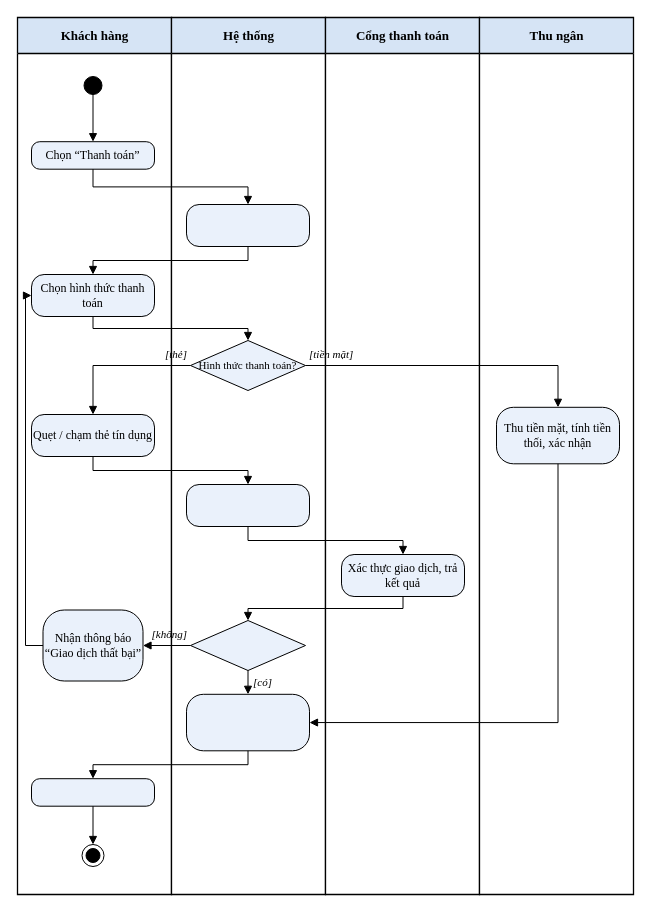
Some shapes in this 652 by 913 pixel diagram are drawn without their labels. Here are the shapes that lost their labels. From the top down, the centre of each, then its label:
At point (248, 225): "Hiển thị hóa đơn và tổng tiền".
At point (248, 505): "Gửi yêu cầu xác thực thẻ".
At point (248, 645): "Giao dịch thành công?".
At point (248, 722): "Cập nhật “Đã thanh toán”, xuất hóa đơn".
At point (92, 792): "Nhận hóa đơn".
